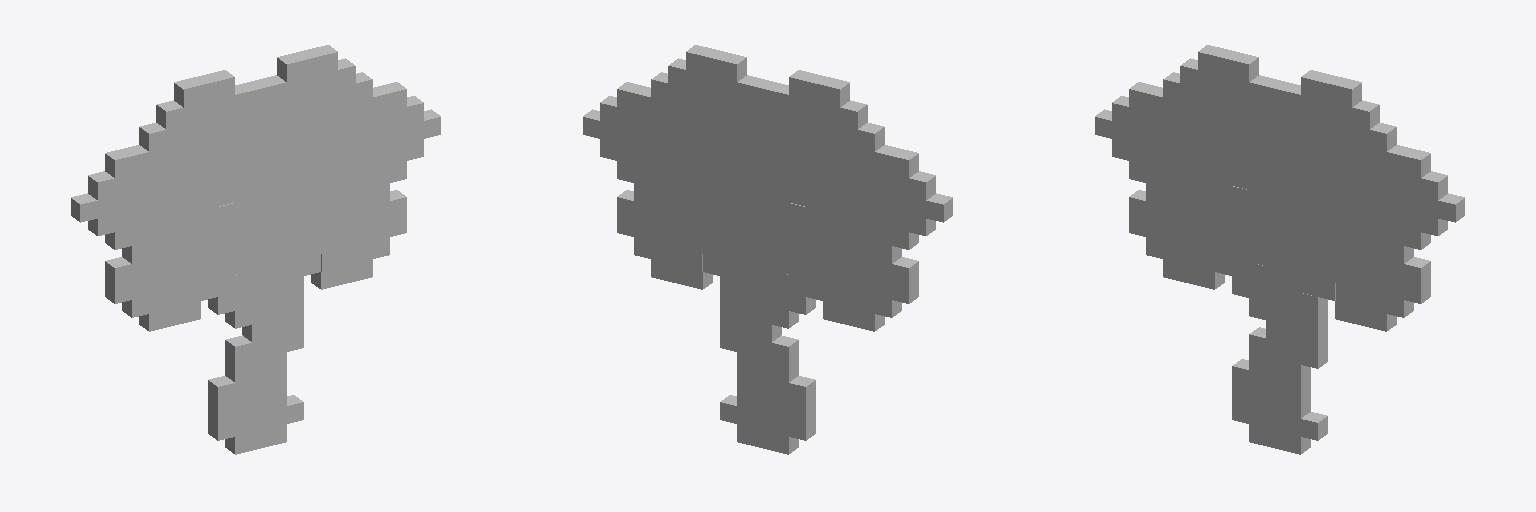
The model's file is flower.obj.
3 renders of one model, left to right at view 1: azimuth 30°, elevation 25°; view 2: azimuth 150°, elevation 25°; view 3: azimuth 330°, elevation 25°, orthographic.
Visible parts, largest first — view 1: Box221, Box204, Box229, Box13, Box232, Box21, Box214, Box207, Box203, Box151; view 2: Box221, Box204, Box229, Box13, Box232, Box21, Box214, Box207, Box203, Box151; view 3: Box233, Box215, Box227, Box230, Box213, Box10, Box208, Box212, Box163.
Part boxes in pixels (x1,y1,x2,y2): Box221: (156, 100, 183, 129); Box204: (88, 171, 114, 199); Box229: (174, 78, 200, 107); Box13: (208, 376, 234, 404); Box232: (277, 53, 303, 81); Box21: (225, 335, 251, 364); Box214: (139, 123, 165, 151); Box207: (105, 149, 131, 177); Box203: (71, 193, 97, 222); Box151: (105, 257, 131, 285); Box221: (840, 100, 867, 129); Box204: (909, 171, 935, 199); Box229: (823, 78, 849, 107); Box13: (789, 376, 815, 404); Box232: (720, 53, 746, 81); Box21: (772, 335, 798, 364); Box214: (858, 123, 884, 151); Box207: (892, 149, 918, 177); Box203: (926, 193, 952, 222); Box151: (892, 257, 918, 285); Box233: (1352, 100, 1379, 129); Box215: (1370, 123, 1396, 151); Box227: (1232, 53, 1258, 81); Box230: (1335, 78, 1361, 107); Box213: (1421, 171, 1447, 199); Box10: (1301, 412, 1327, 440); Box208: (1404, 149, 1430, 177); Box212: (1438, 193, 1464, 222); Box163: (1404, 257, 1430, 285).
Bounding box in the file's own units: 10.5 × 10.5 × 0.5.